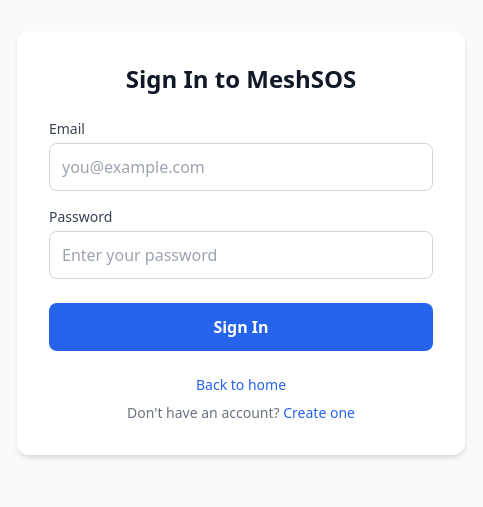
Test case: LoginPage › displays error message for invalid credentials
The width and height of the screenshot is (483, 507).
In the field labelled "Email": (241, 167) [49, 143, 433, 191], type "bad@test.com"
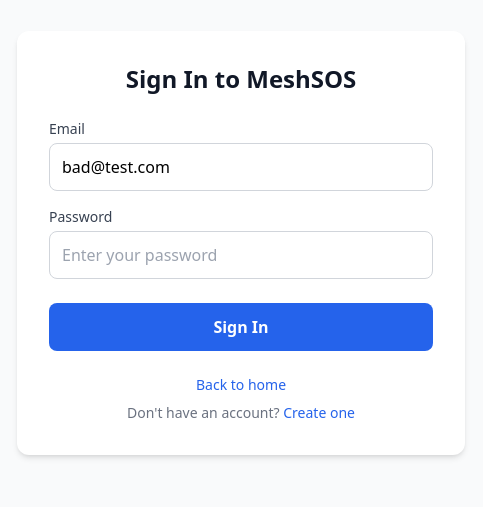
In the password field labelled "Password": (241, 255) [49, 231, 433, 279], type "wrong"
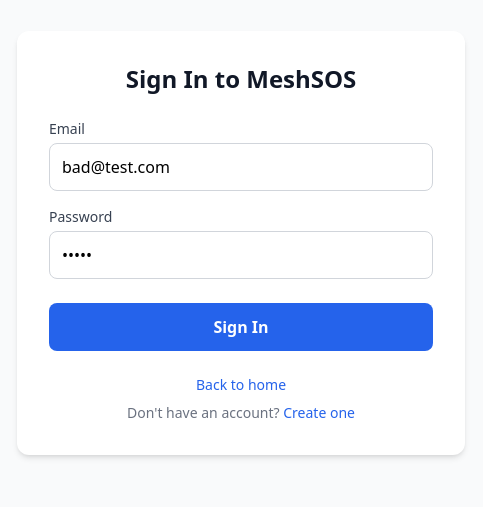
Click the button "Sign In": click(241, 327) [49, 303, 433, 351]
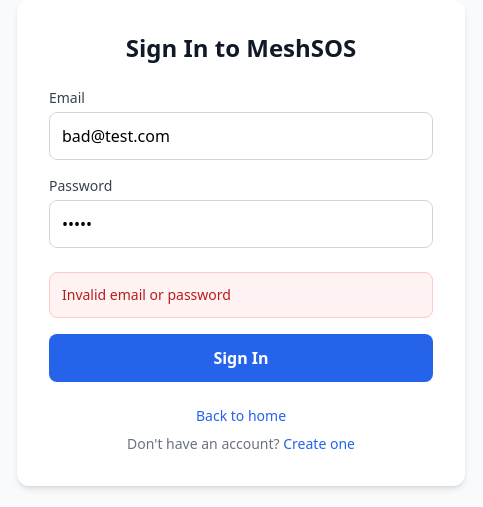
Expected: the message reads "Invalid email or password", [62, 285, 231, 304]
